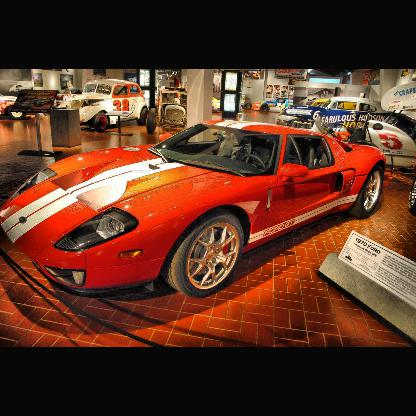Ford GT Coupe 2006: (2, 120, 389, 298)
